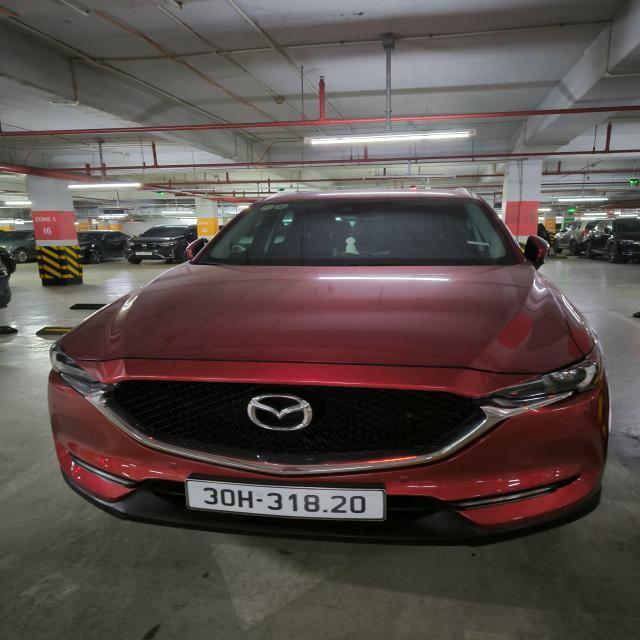license: (183, 477, 387, 521)
